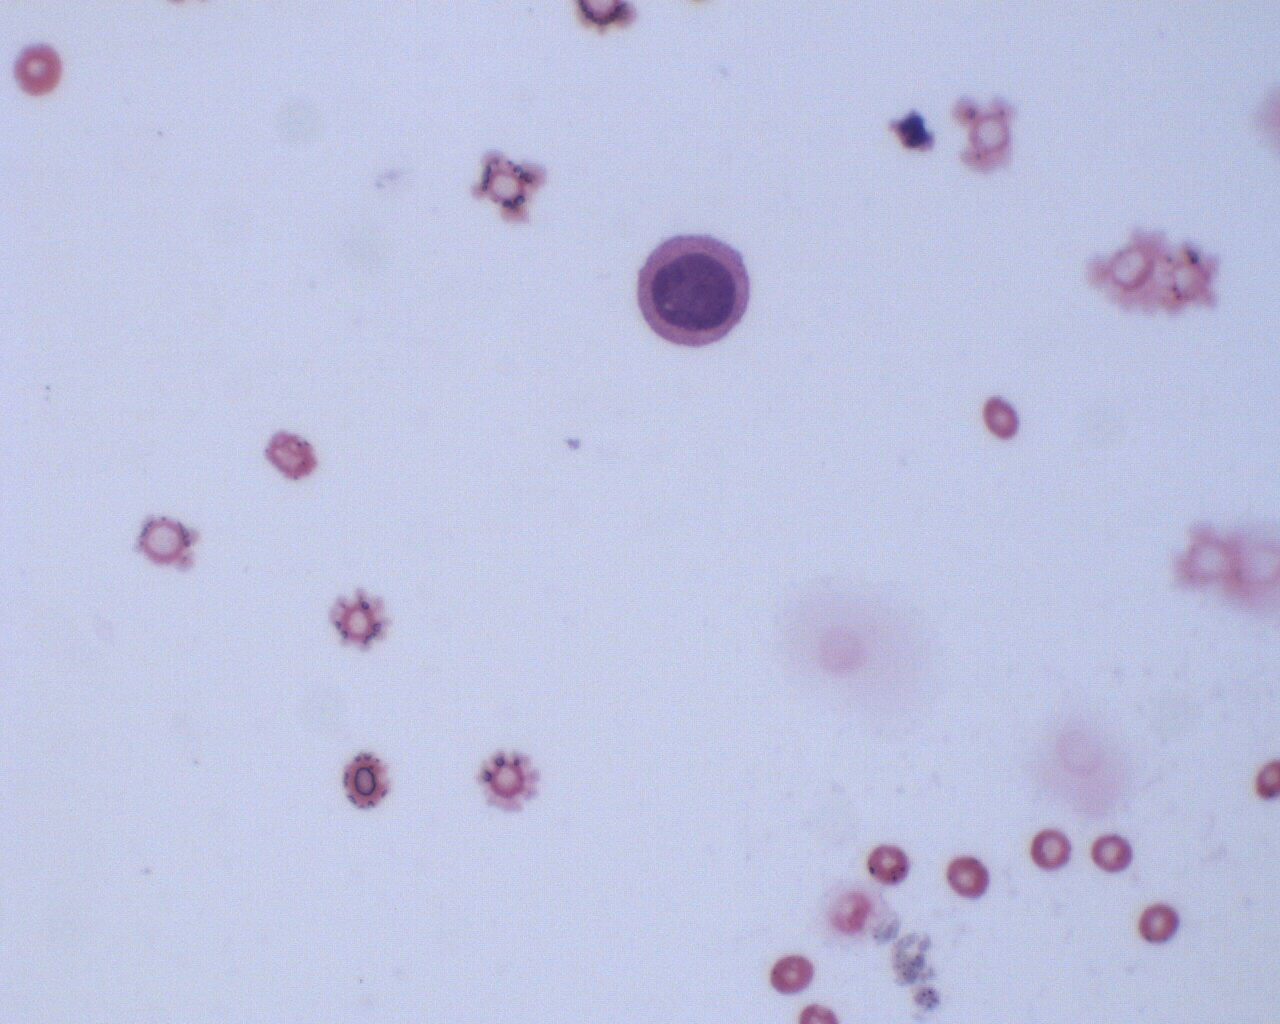ab: (631, 229, 757, 353)
